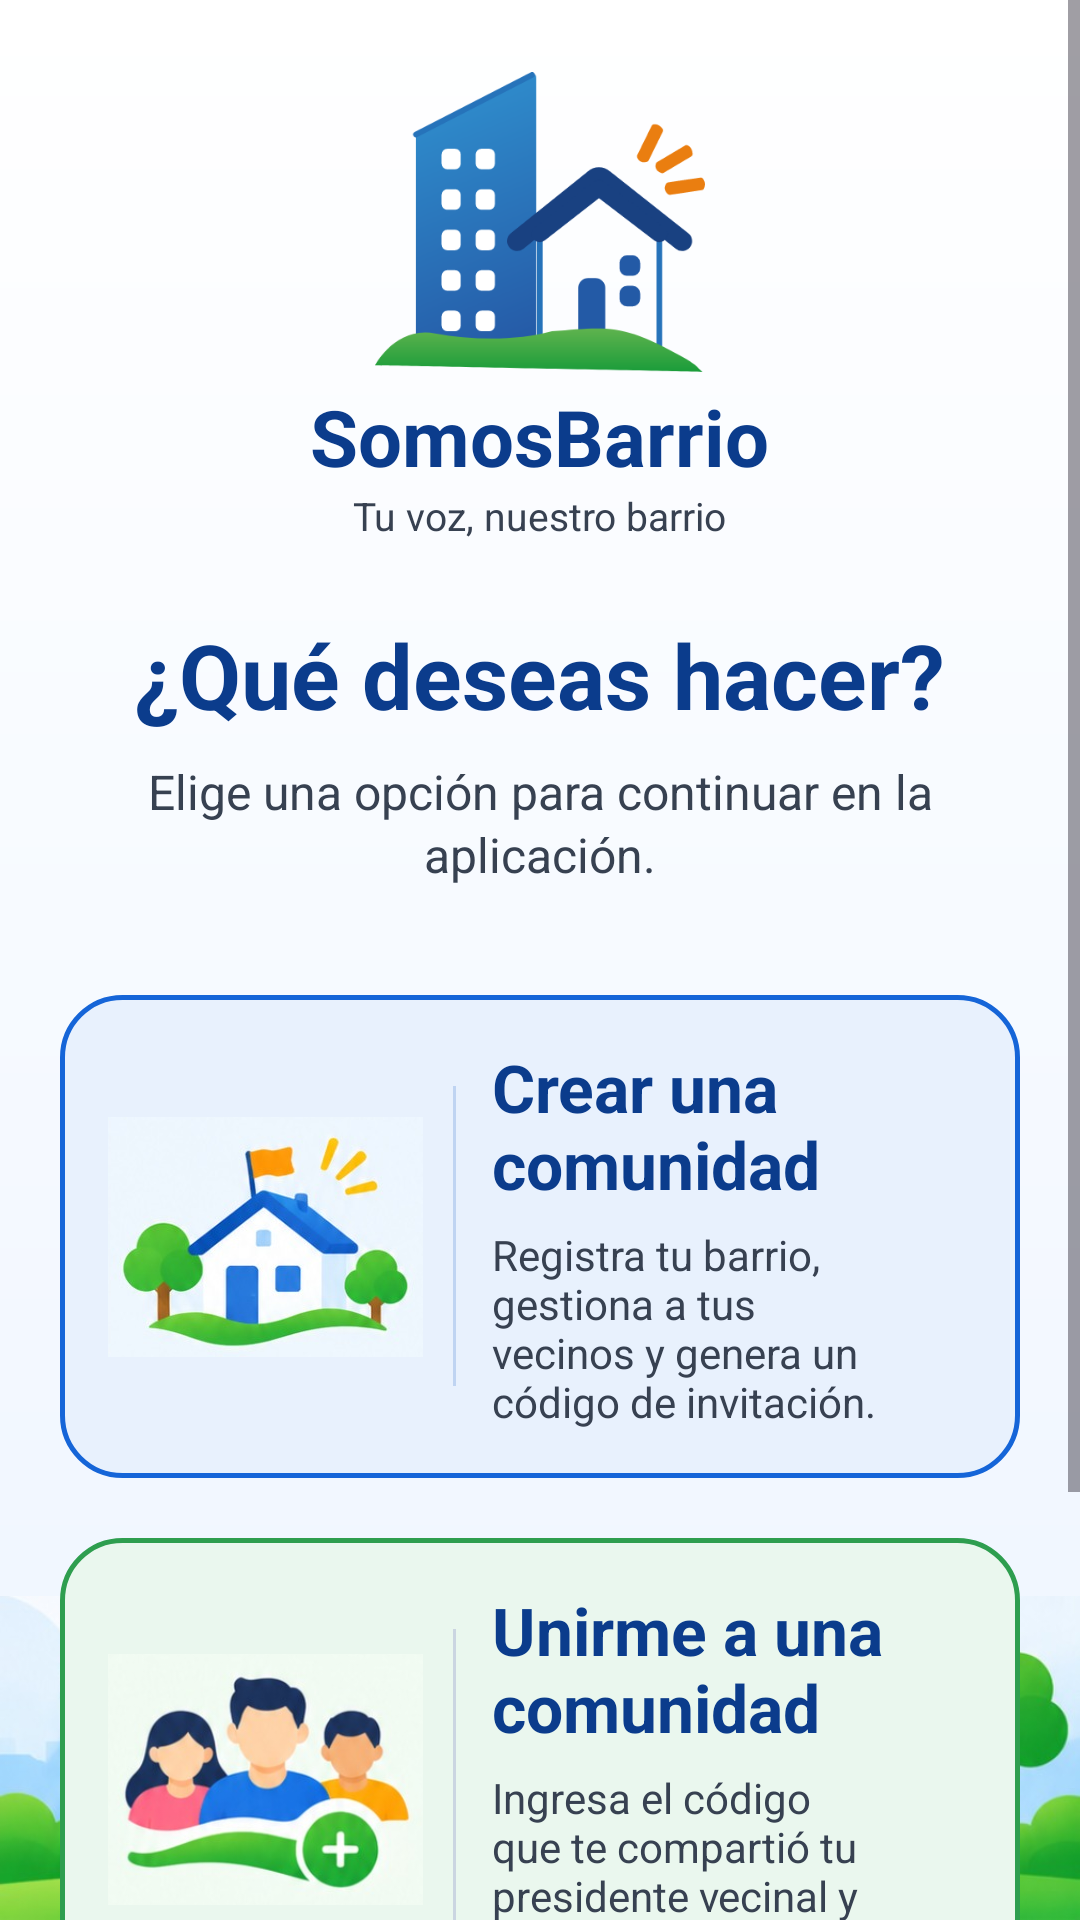

Icon click points for this 1080px×1920px phone screenshot, format (x=x, y=y):
ilustracion crear: (x=265, y=1241)
